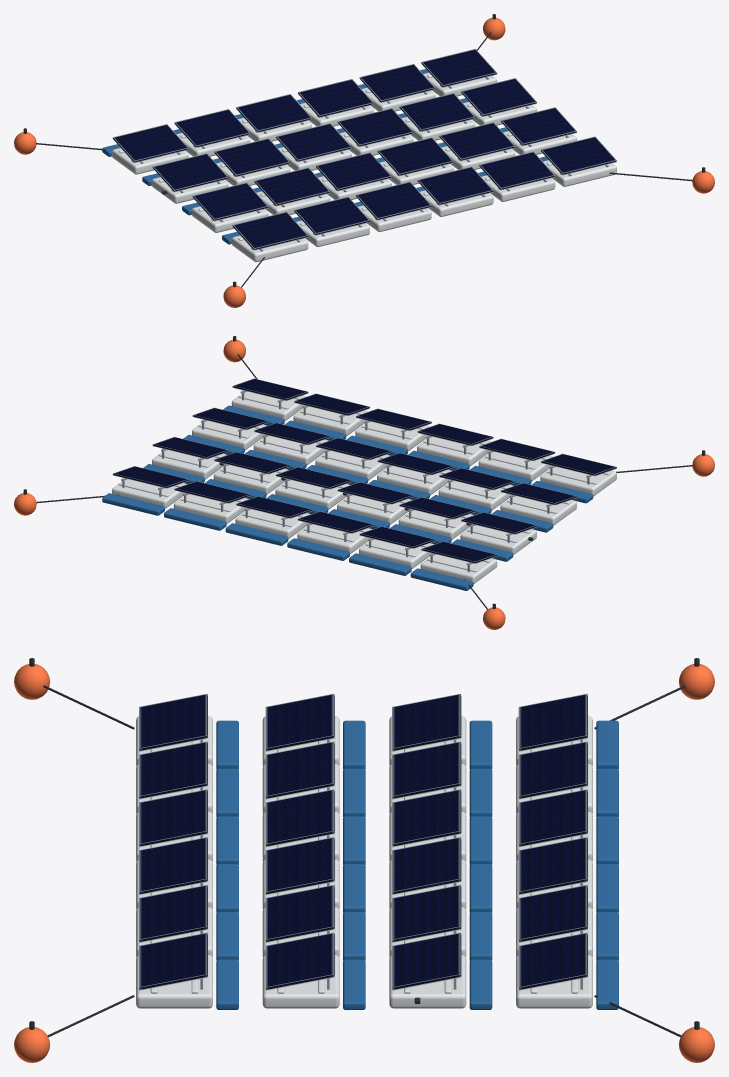
File: centrale-flottante.glb
The picture shows the model from 3 angles, top to bottom: view 1: azimuth 30°, elevation 25°; view 2: azimuth 150°, elevation 25°; view 3: azimuth 270°, elevation 25°; orthographic projection. The views are drawn at different scales.
Parts seen in each view (by area): view 1: centrale; view 2: centrale; view 3: centrale.
Boxes of the visible parts, left/top/right/bottom form: centrale: left=14, top=14, right=714, bottom=307; centrale: left=14, top=336, right=714, bottom=629; centrale: left=14, top=658, right=714, bottom=1062.
Bounding box in the file's own units: 3.96 × 0.2221 × 3.1.
Materials: 7 (1 with a texture image).
